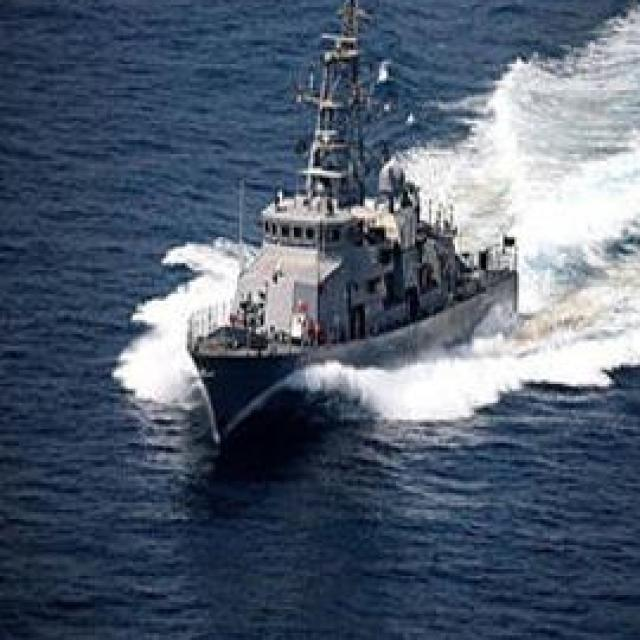navalvessels: (175, 0, 531, 453)
